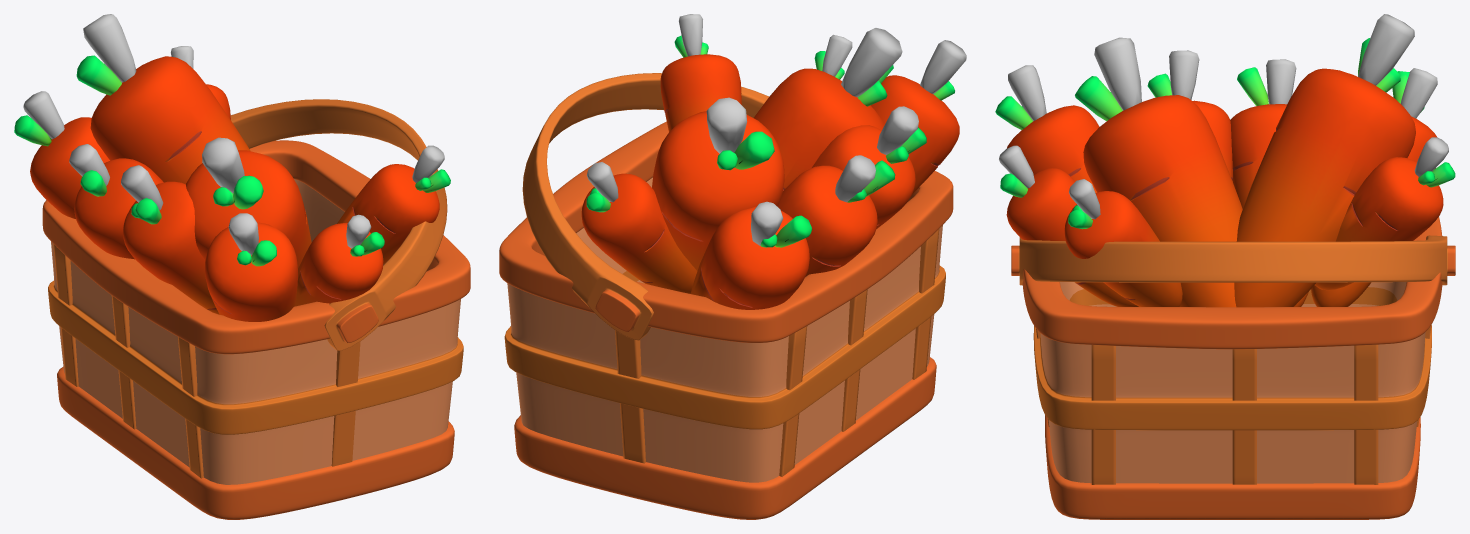
Rendered from KERANJANG 1.fbx.
3 views of the same model, side by side, from view 1: azimuth 30°, elevation 25°; view 2: azimuth 150°, elevation 25°; view 3: azimuth 270°, elevation 25° (orthographic). The views are drawn at different scales.
Visible parts, largest first — view 1: Cube, Cube.003, Cube.002, Circle, Cube.039, Cube.001, Cube.011, Cube.035, Cube.015, Cube.027, Cube.007, Cube.023 (+12 smaller); view 2: Cube, Cube.003, Cube.002, Circle, Cube.039, Cube.019, Cube.001, Cube.035, Cube.031, Cube.023, Cube.027, Cube.011 (+13 smaller); view 3: Cube, Cube.039, Cube.003, Circle, Cube.035, Cube.002, Cube.001, Cube.031, Cube.027, Cube.007, Cube.011, Cube.023 (+14 smaller).
Part boxes in pixels (x1,y1,x2,y2): Cube: (48,179,463,484); Cube.003: (42,140,470,354); Cube.002: (57,367,454,519); Circle: (230,99,447,350); Cube.039: (90,56,250,184); Cube.001: (53,244,360,478); Cube.011: (204,222,297,321); Cube.035: (186,150,311,268); Cube.015: (122,181,219,314); Cube.027: (337,164,439,264); Cube.007: (295,222,383,306); Cube.023: (74,158,163,259); Cube: (504,177,945,482); Cube.003: (499,121,953,342); Cube.002: (514,357,936,519); Circle: (522,73,768,340); Cube.039: (652,111,784,270); Cube.019: (690,206,809,309); Cube.001: (615,229,939,476); Cube.035: (754,68,884,190); Cube.031: (581,173,697,293); Cube.023: (778,165,877,276); Cube.027: (660,54,741,131); Cube.011: (871,75,959,194); Cube: (1033,282,1431,483); Cube.039: (1234,68,1415,307); Cube.003: (1022,217,1442,349); Circle: (1011,235,1455,285); Cube.035: (1083,95,1242,307); Cube.002: (1045,415,1420,519); Cube.001: (1036,325,1431,484); Cube.031: (1315,157,1443,290); Cube.027: (1064,191,1182,306); Cube.007: (1006,168,1138,306); Cube.011: (1007,105,1099,192); Cube.023: (1230,104,1308,306).
Size of the model in its own units: 279 by 315 by 322.
